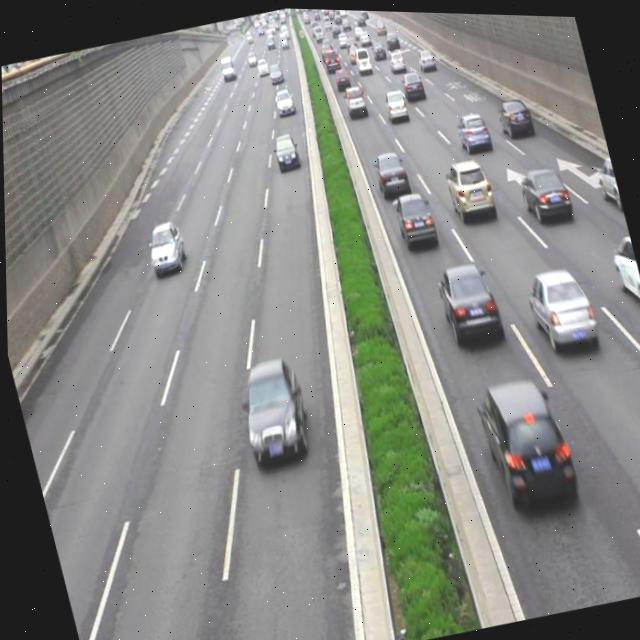car: (467, 368, 578, 514), (230, 355, 314, 470), (519, 258, 598, 357), (430, 257, 503, 347), (439, 152, 494, 221), (514, 158, 572, 223), (604, 227, 640, 314), (389, 186, 436, 250), (141, 218, 188, 273), (369, 144, 410, 198), (452, 109, 491, 155), (493, 92, 532, 137), (589, 151, 621, 204), (268, 130, 300, 169), (340, 81, 367, 119), (381, 85, 407, 121), (398, 67, 424, 100)
